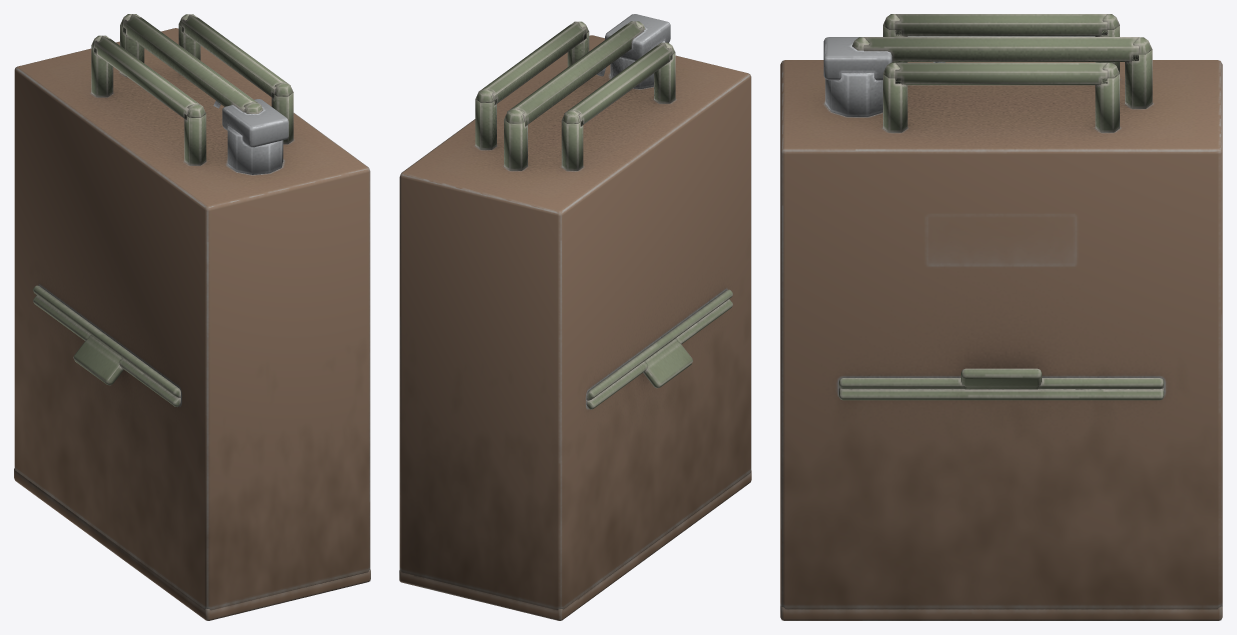
The model's file is fuel_canister.glb.
3 renders of one model, left to right at view 1: azimuth 30°, elevation 25°; view 2: azimuth 150°, elevation 25°; view 3: azimuth 270°, elevation 25°, orthographic. The views are drawn at different scales.
Parts seen in each view (by area): view 1: fuel_canister; view 2: fuel_canister; view 3: fuel_canister.
Part boxes in pixels (x1,y1,x2,y2): fuel_canister: (14,14,370,620); fuel_canister: (399,14,751,620); fuel_canister: (780,14,1222,620).
Bounding box in the file's own units: 0.217 × 0.479 × 0.354.
Materials: 1 (1 with a texture image).
